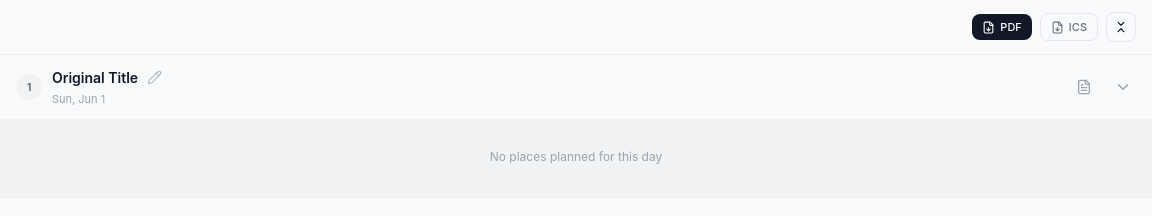
Scenario: DayPlanSidebar › FE-PLANNER-DAYPLAN-017: pressing Escape cancels edit
Click the button without text next to "Original Title" at (155, 78), box [143,66,166,89]
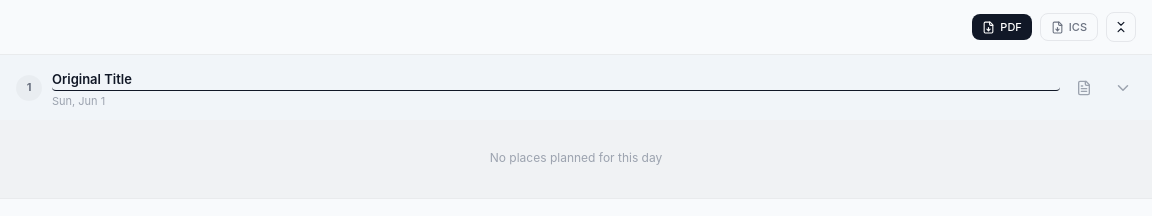
Press Escape
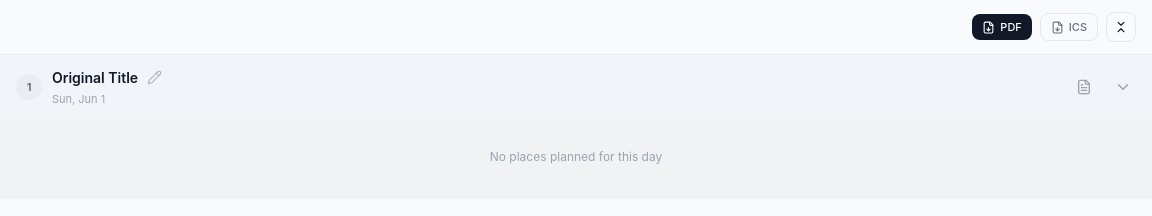
Result: the text "Original Title" is shown at [52,67,138,88]
